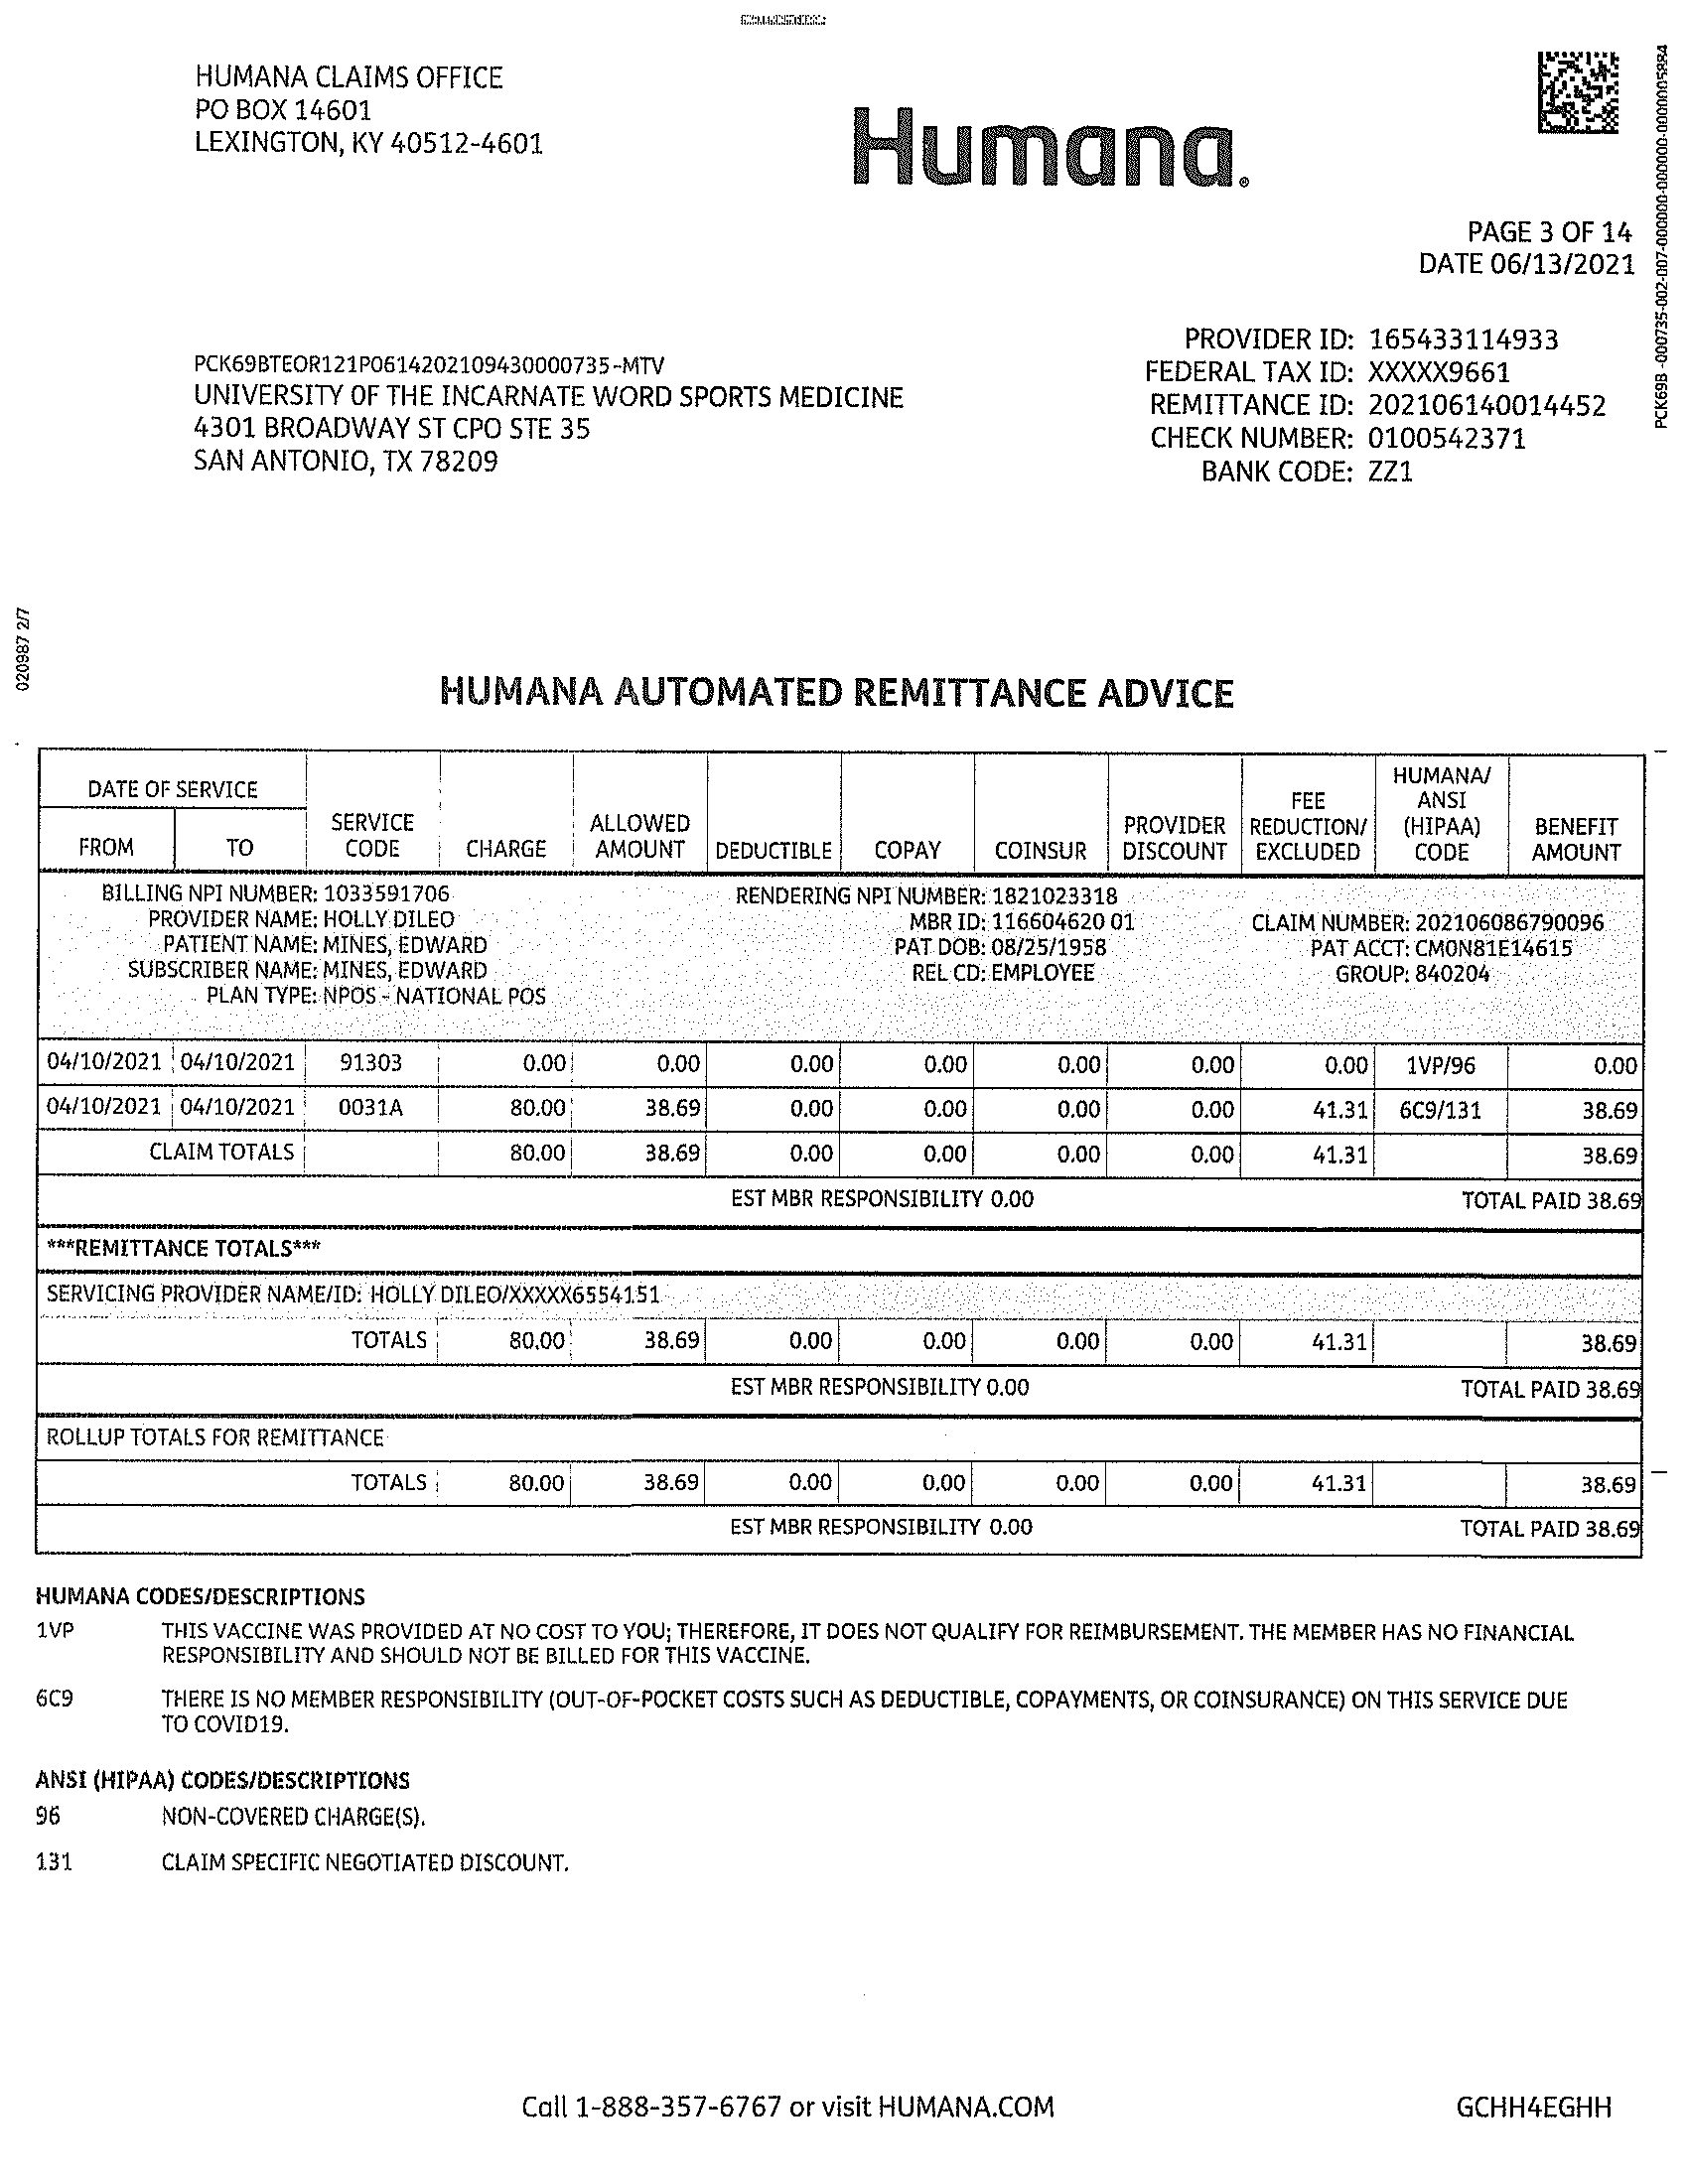data: (1124, 312, 1614, 509), (89, 872, 560, 1019), (723, 874, 1145, 1012), (1239, 886, 1610, 1010)
table: (25, 741, 1658, 1241)
